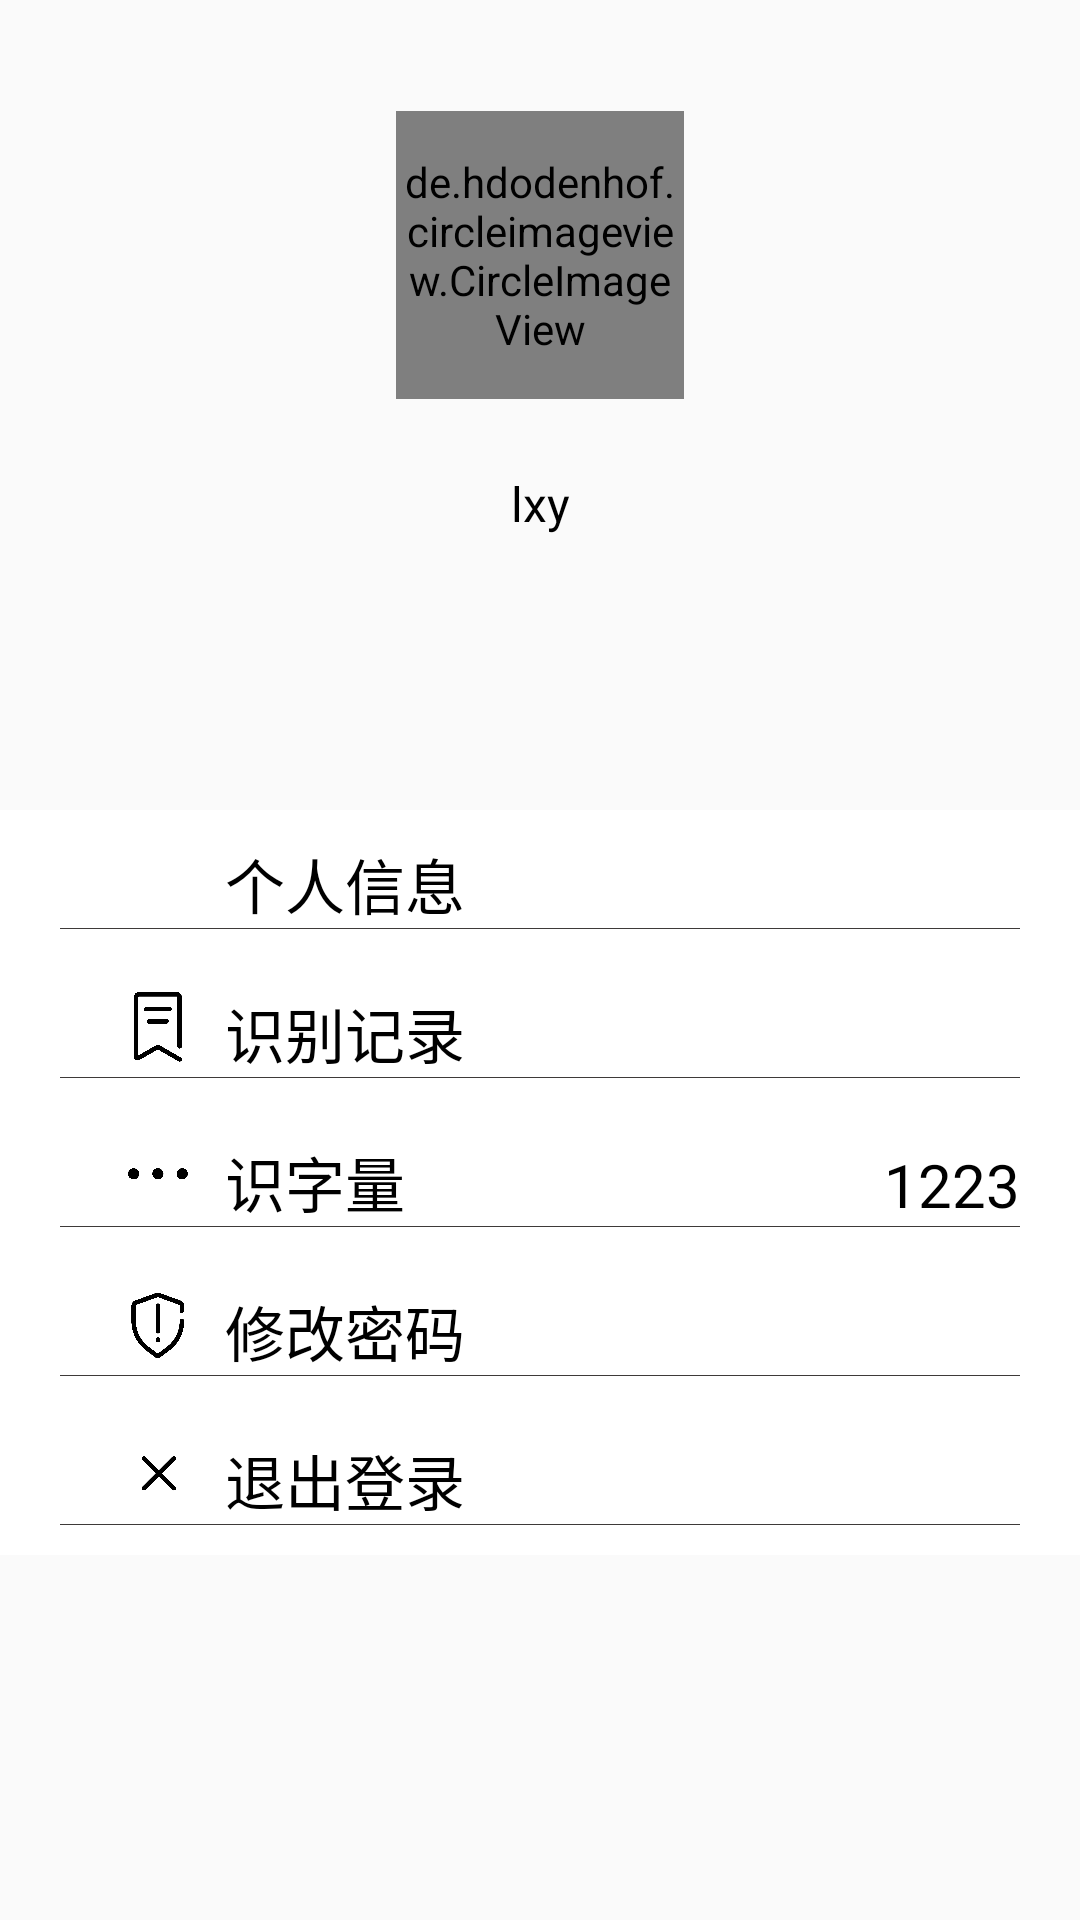

Where to tap for icons on this 1080 x 1920 app screen, as (x=x, y=y):
close: (x=159, y=1473)
dengdeng: (x=158, y=1173)
dingdan: (x=158, y=1027)
jubao: (x=157, y=1325)
